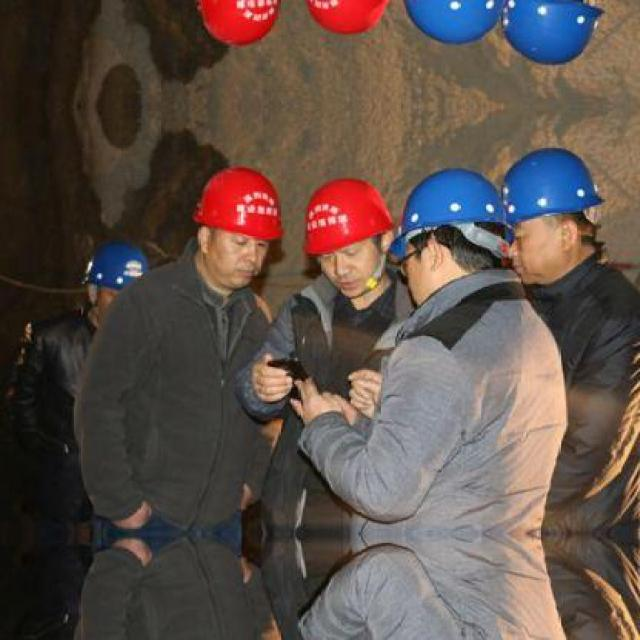helmet: (496, 144, 602, 277), (390, 171, 502, 293), (184, 165, 281, 287), (306, 178, 396, 292), (81, 238, 162, 334), (495, 0, 602, 69), (389, 0, 503, 42), (183, 0, 282, 48), (306, 0, 397, 35)
